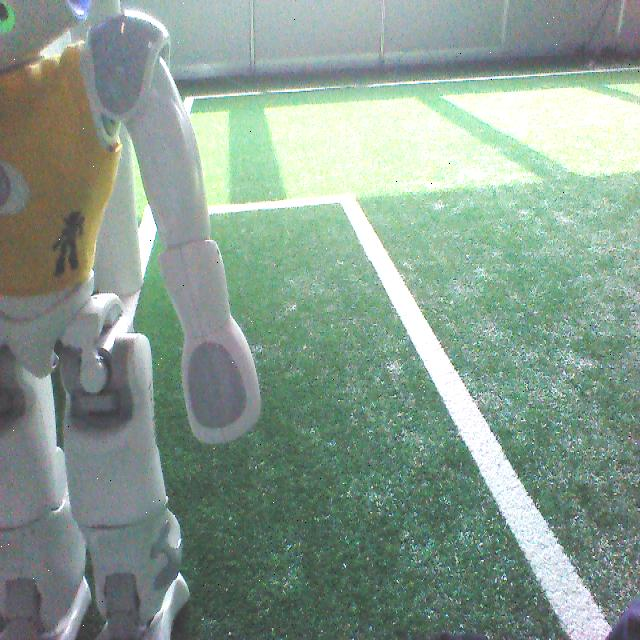goalpost: (93, 124, 146, 295)
